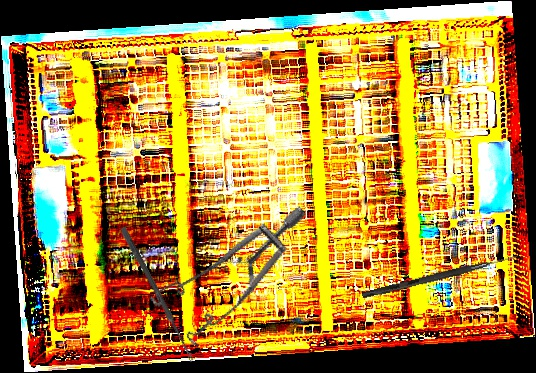Hook Surgical: (361, 251, 518, 301)
Speculum: (138, 166, 308, 368)
Surgical Spoon: (118, 226, 197, 363)
